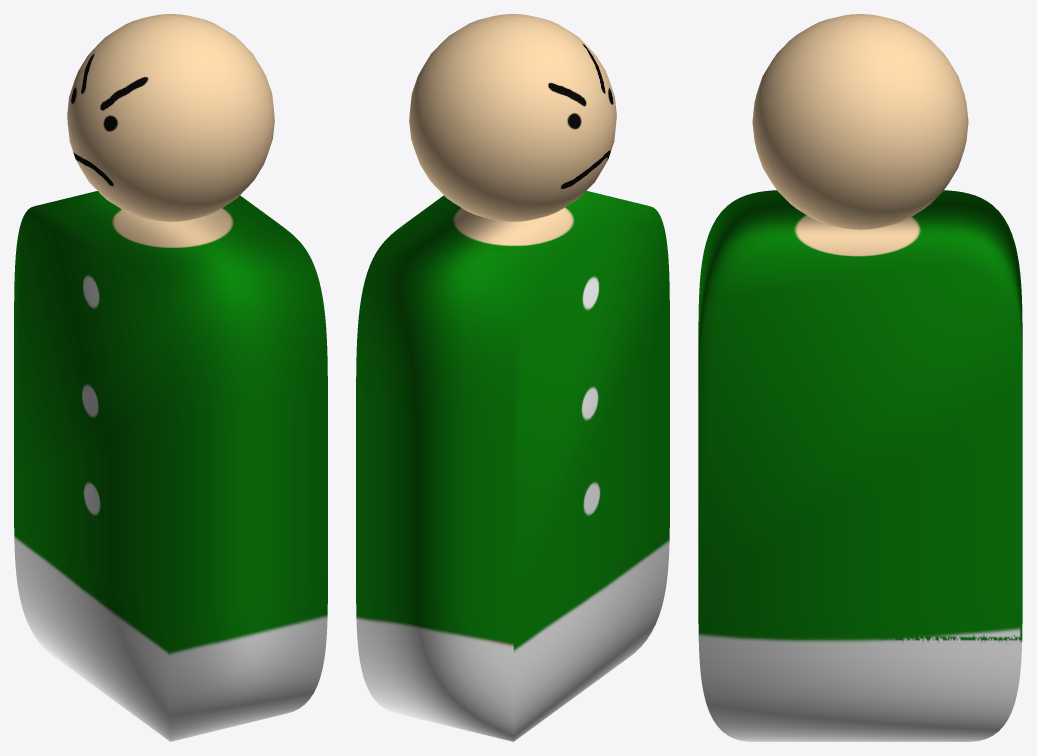
Rendered from skin2.glb.
3 renders of one model, left to right at view 1: azimuth 30°, elevation 25°; view 2: azimuth 150°, elevation 25°; view 3: azimuth 270°, elevation 25°, orthographic. The views are drawn at different scales.
Visible parts, largest first — view 1: Oberkörper, Kopf; view 2: Oberkörper, Kopf; view 3: Oberkörper, Kopf.
Boxes of the visible parts, <box> form: Oberkörper: <box>14,191,327,741</box>; Kopf: <box>67,14,274,221</box>; Oberkörper: <box>356,190,669,741</box>; Kopf: <box>409,14,616,221</box>; Oberkörper: <box>698,190,1022,741</box>; Kopf: <box>752,14,968,229</box>.
Bounding box in the file's own units: 0.2 × 0.71 × 0.3.
2 materials, 2 textured.
